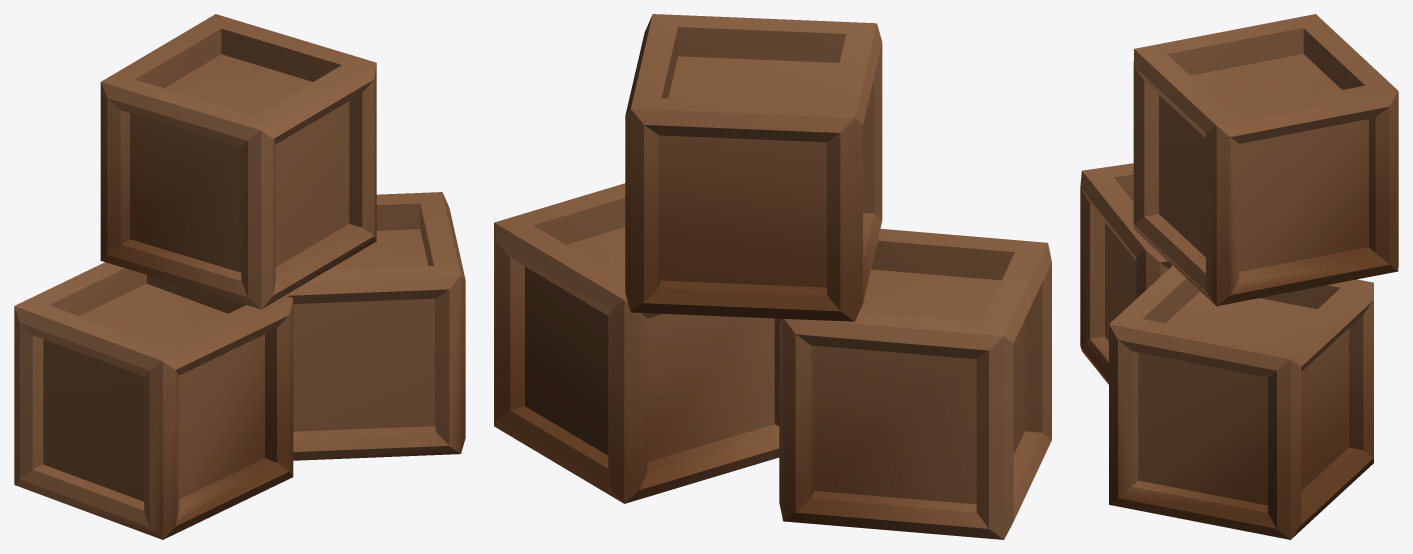
The model's file is crate_stack.glb.
3 renders of one model, left to right at view 1: azimuth 30°, elevation 25°; view 2: azimuth 150°, elevation 25°; view 3: azimuth 270°, elevation 25°, orthographic. The views are drawn at different scales.
Parts seen in each view (by area): view 1: crate_stack; view 2: crate_stack; view 3: crate_stack.
Boxes of the visible parts, left/top/right/bottom form: crate_stack: left=14, top=14, right=465, bottom=539; crate_stack: left=494, top=14, right=1051, bottom=539; crate_stack: left=1080, top=14, right=1398, bottom=539.
Size of the model in its own units: 2.26 by 1.77 by 1.41.
1 material, 1 textured.
